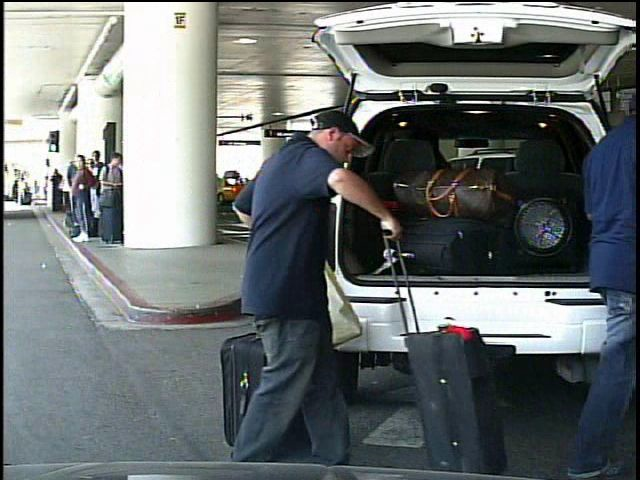person: (227, 99, 408, 476), (551, 78, 640, 480), (18, 177, 29, 207)
